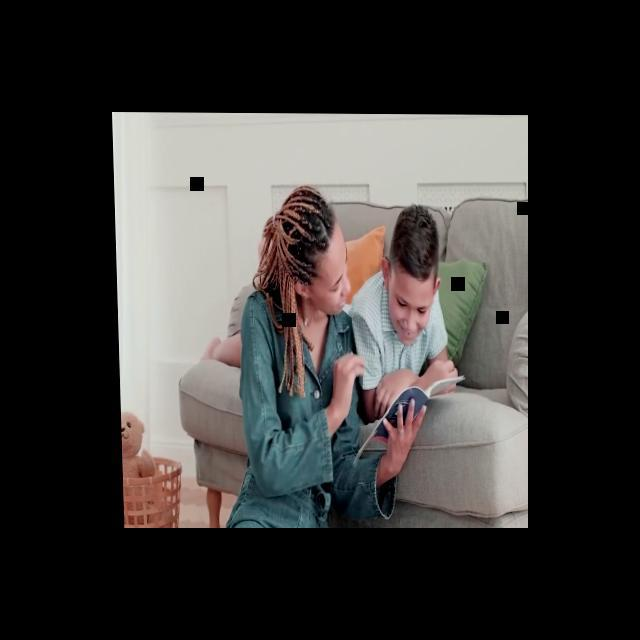female: (240, 171, 355, 338)
male: (380, 206, 456, 331)
